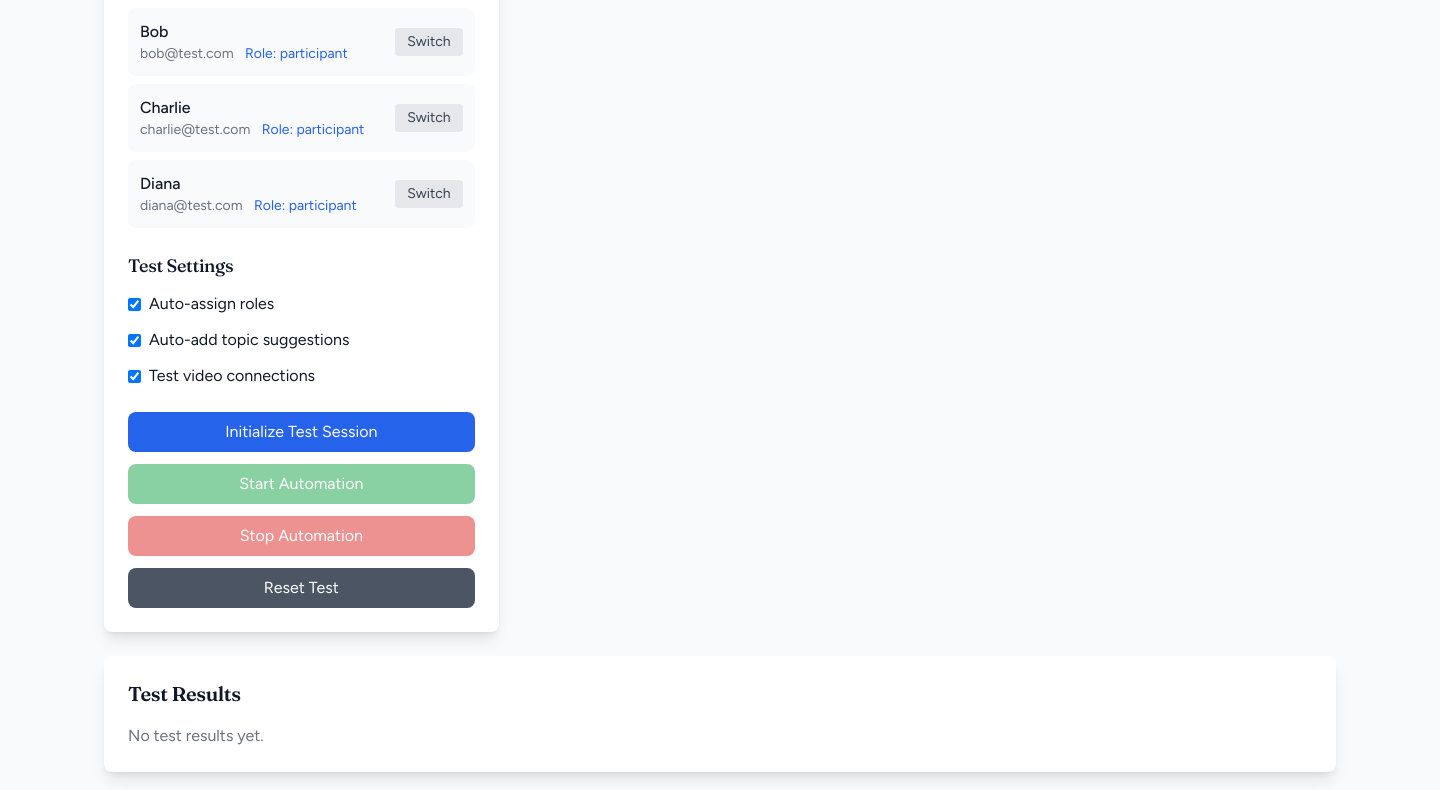
Test case: SessionTestPage Component › Test Results › should show test results after initialization
(page scrolled)
Click the button "Initialize Test Session" at (301, 432), box [128, 412, 475, 452]
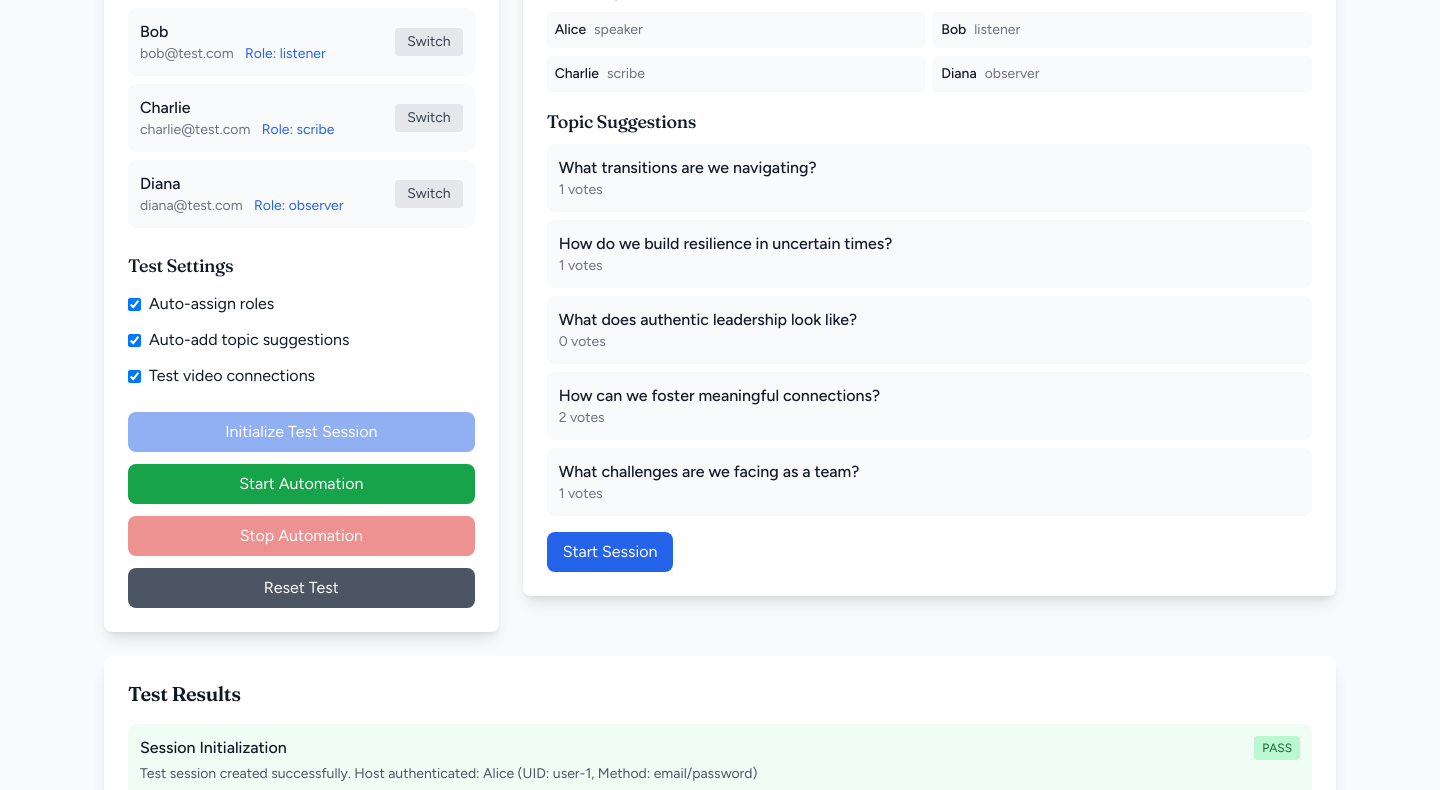
Expected: the text "Session Initialization" is shown, [140, 736, 287, 760]
